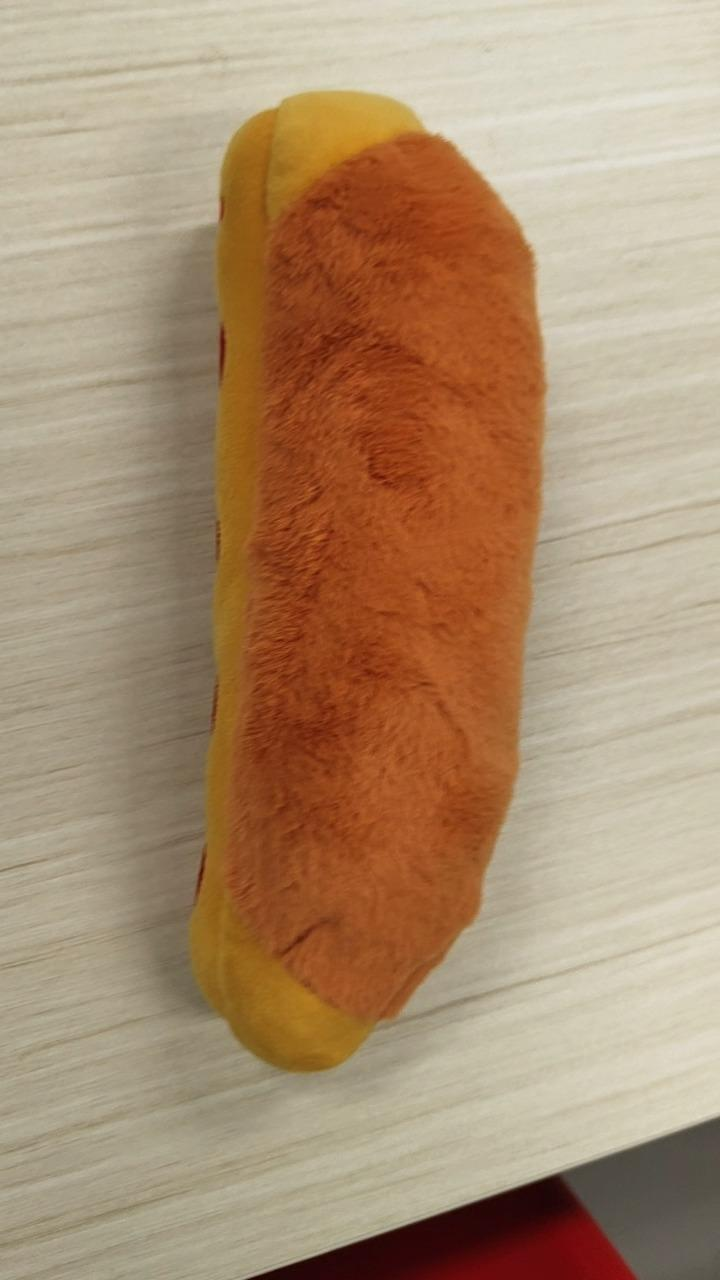hotdog: (187, 87, 547, 1073)
